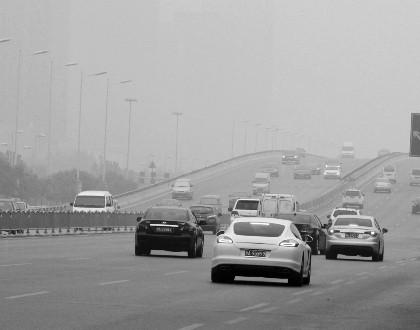bus: (259, 193, 300, 234)
car: (210, 217, 314, 286), (135, 207, 207, 258), (326, 216, 389, 263), (270, 212, 328, 256), (70, 191, 115, 232), (187, 205, 223, 236), (329, 206, 364, 237), (228, 199, 263, 230), (93, 199, 121, 229), (1, 198, 22, 235), (7, 202, 31, 228), (171, 178, 194, 201), (341, 189, 366, 210), (250, 173, 272, 195), (322, 161, 342, 179), (292, 164, 311, 180), (260, 162, 280, 177), (281, 150, 300, 165), (340, 142, 356, 159), (374, 178, 392, 193), (382, 165, 397, 183), (407, 168, 420, 186), (306, 160, 321, 175), (409, 197, 420, 215), (294, 147, 307, 159)
